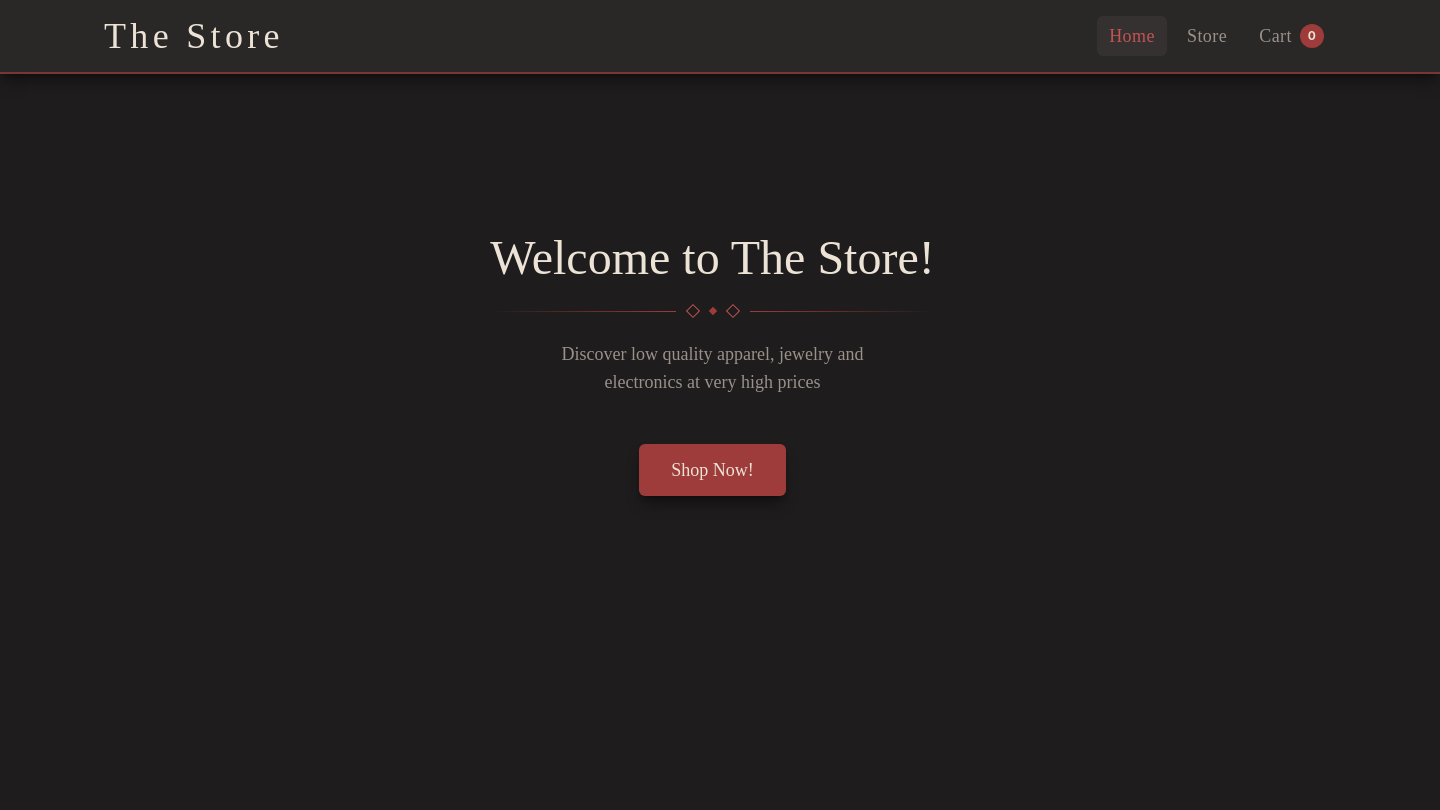
Test: PageHeader Component › Navigation to home
Expected: the element with test id "home-page" is shown, [490,231,935,496]
Step 1. Click the link "Store" → (1207, 36), box [1187,26,1227,46]
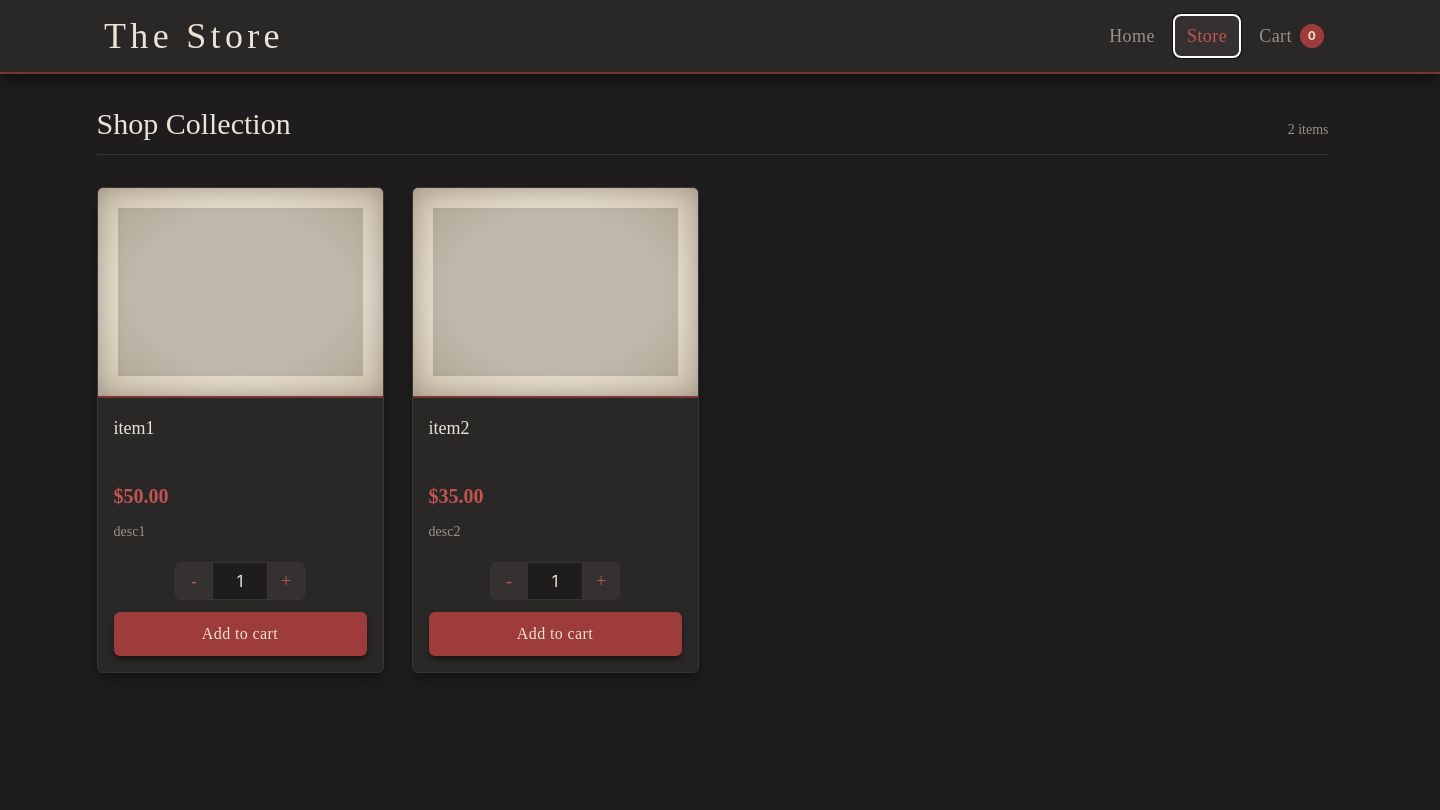
Result: the element with test id "home-page" is gone
Step 2. Click the link "Home" → (1132, 36), box [1109,26,1155,46]
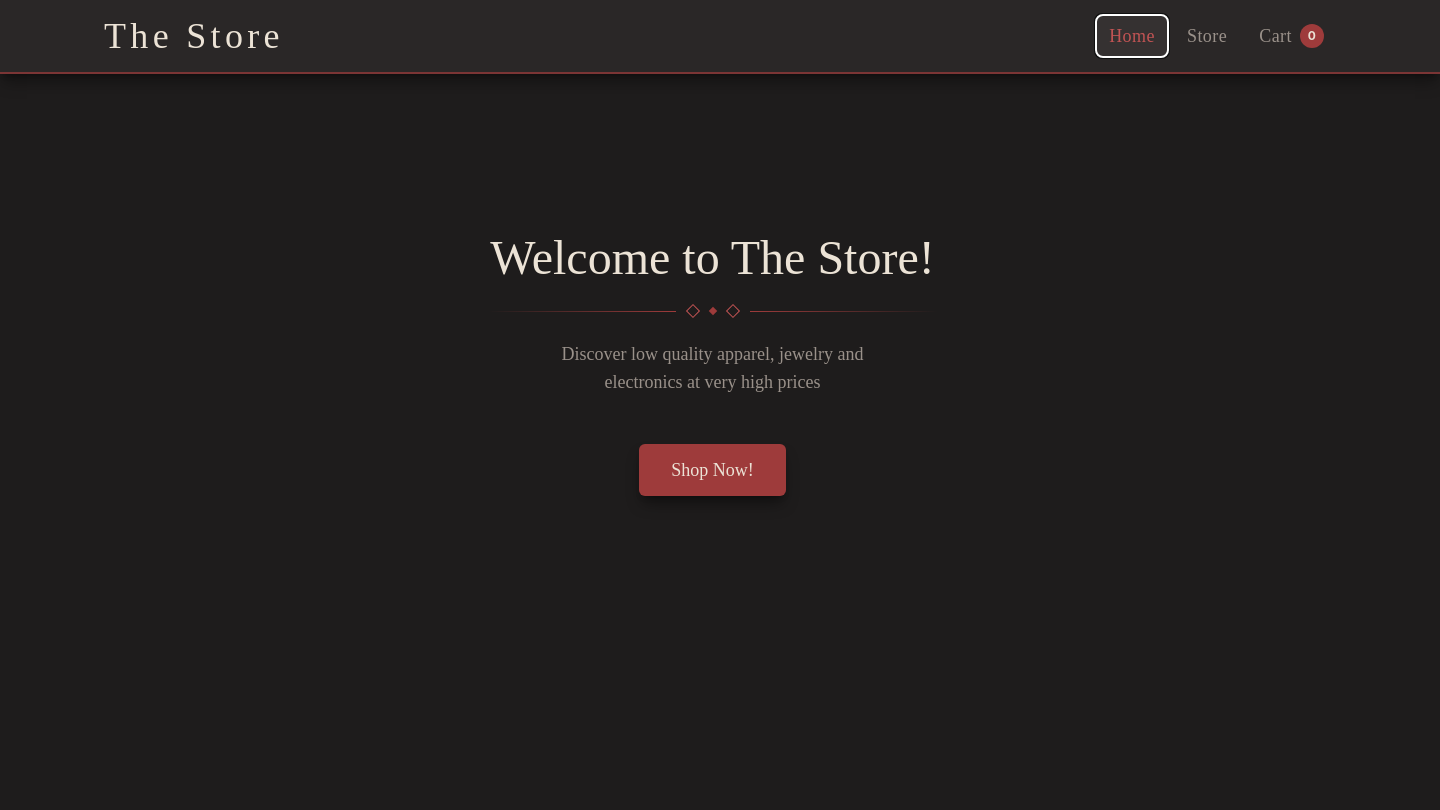
Result: the element with test id "home-page" is shown at [490,231,935,496]
